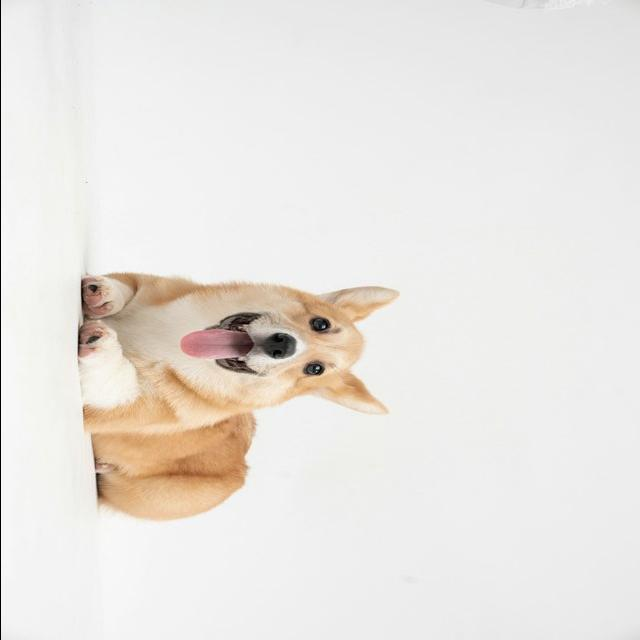corgi: (77, 272, 401, 523)
